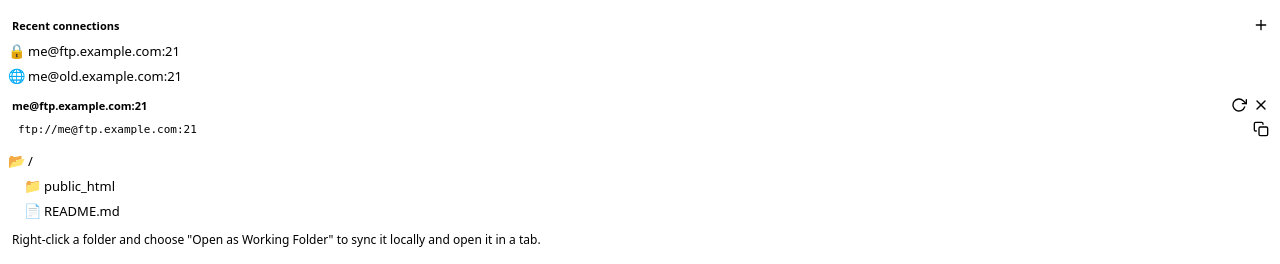
Test case: FtpPanel › opens a folder as a working folder through the local mirror
The width and height of the screenshot is (1280, 264).
Right-click the element with class "file-tree__node" showing "📁 public_html": (70, 186) [24,176,115,195]
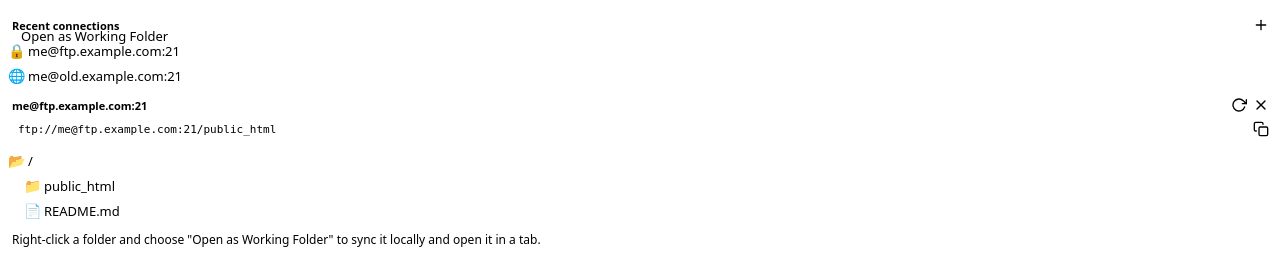
Check: the button "Open as Working Folder" is shown
Click the button "Open as Working Folder": (105, 36) [5,21,205,51]
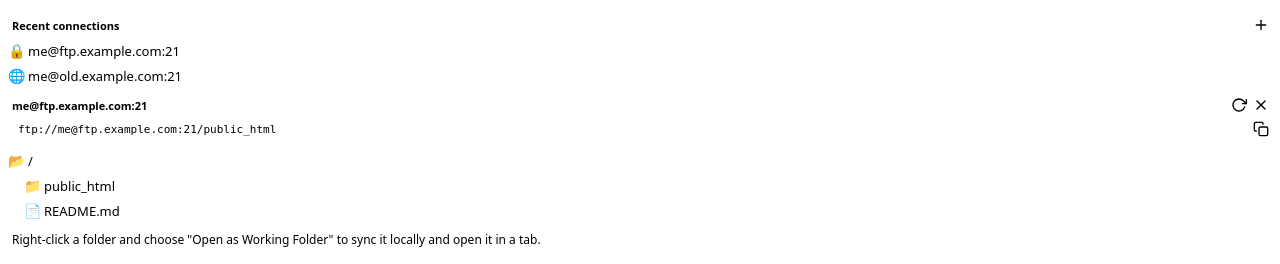
Check: the element with class "context-menu" is gone
